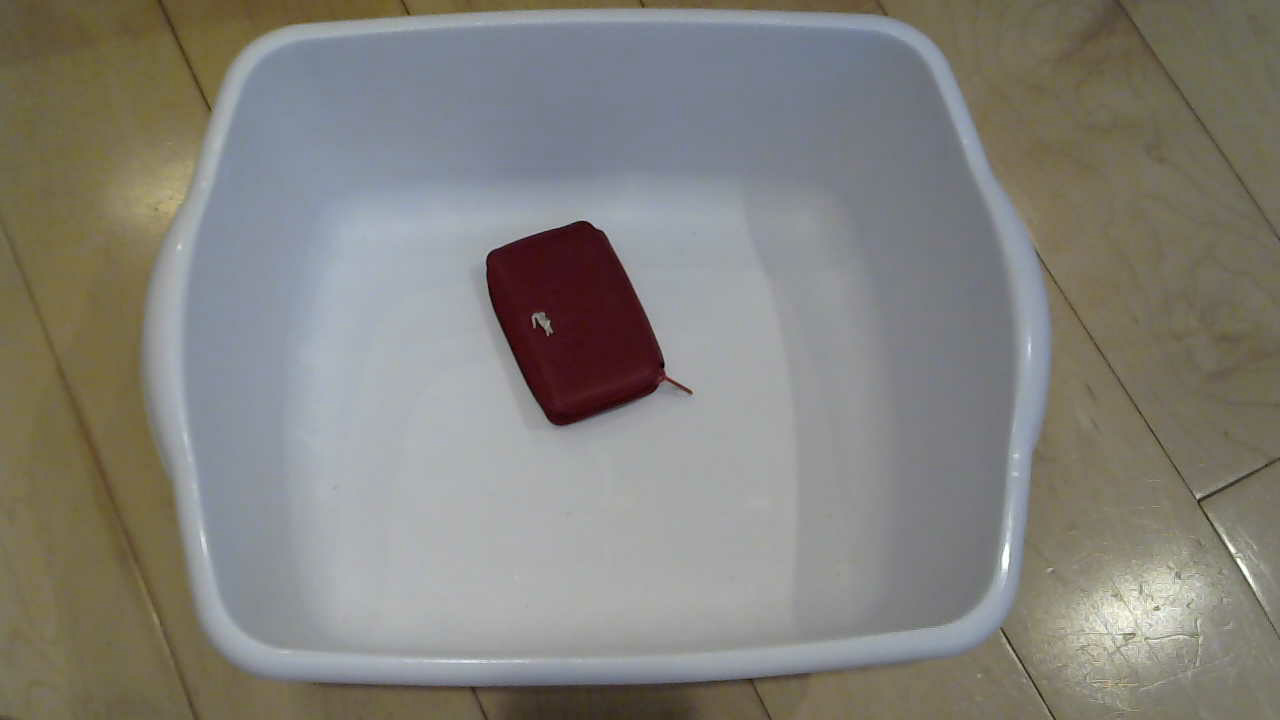wallet: (457, 215, 693, 455)
